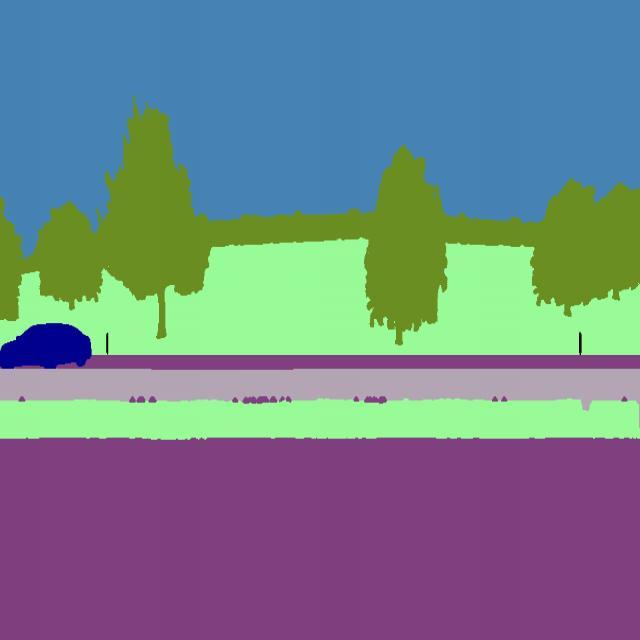safe: (0, 314, 95, 371)
